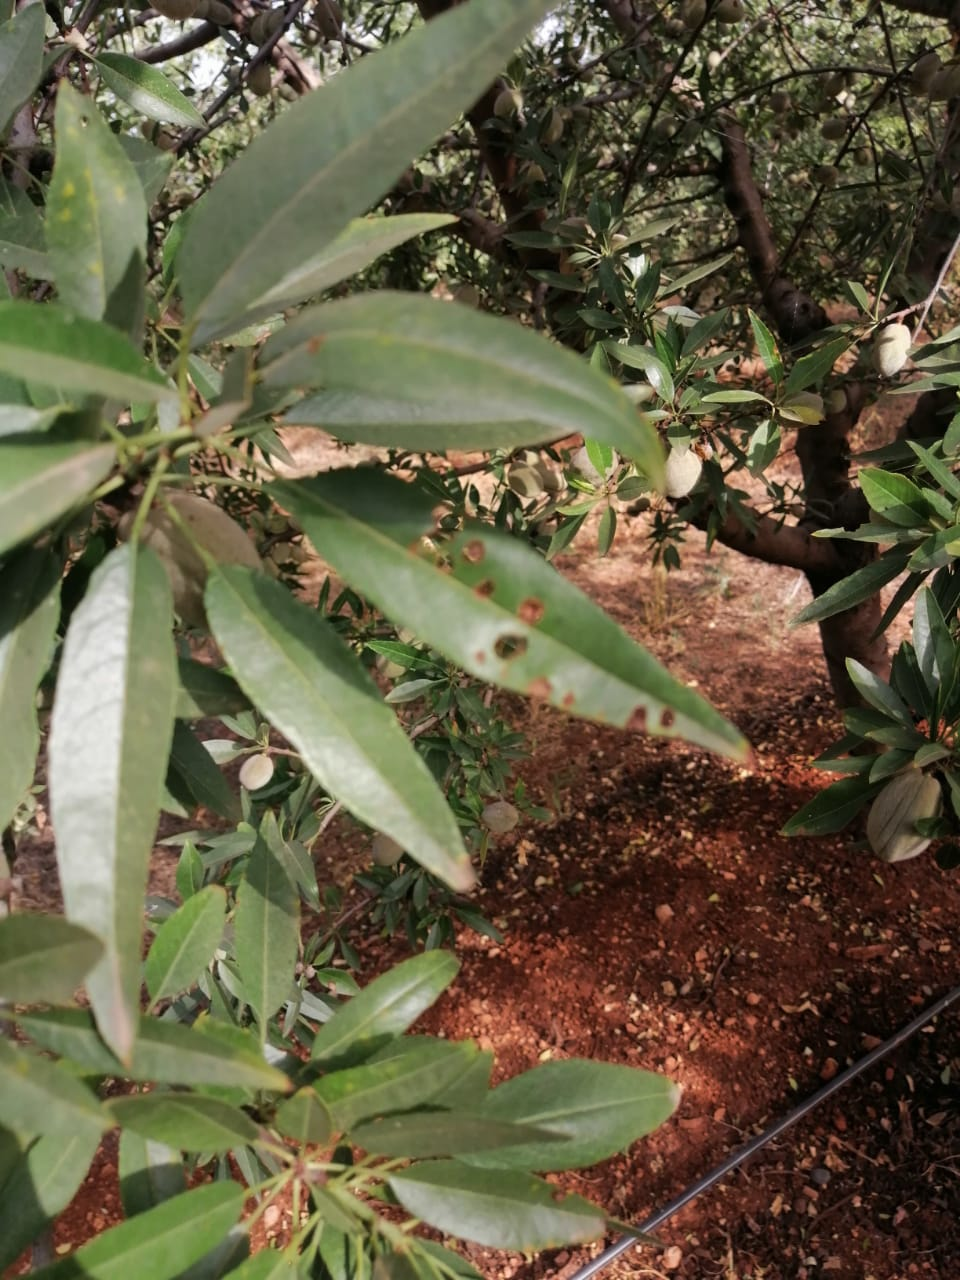coryneum: (272, 465, 765, 765)
